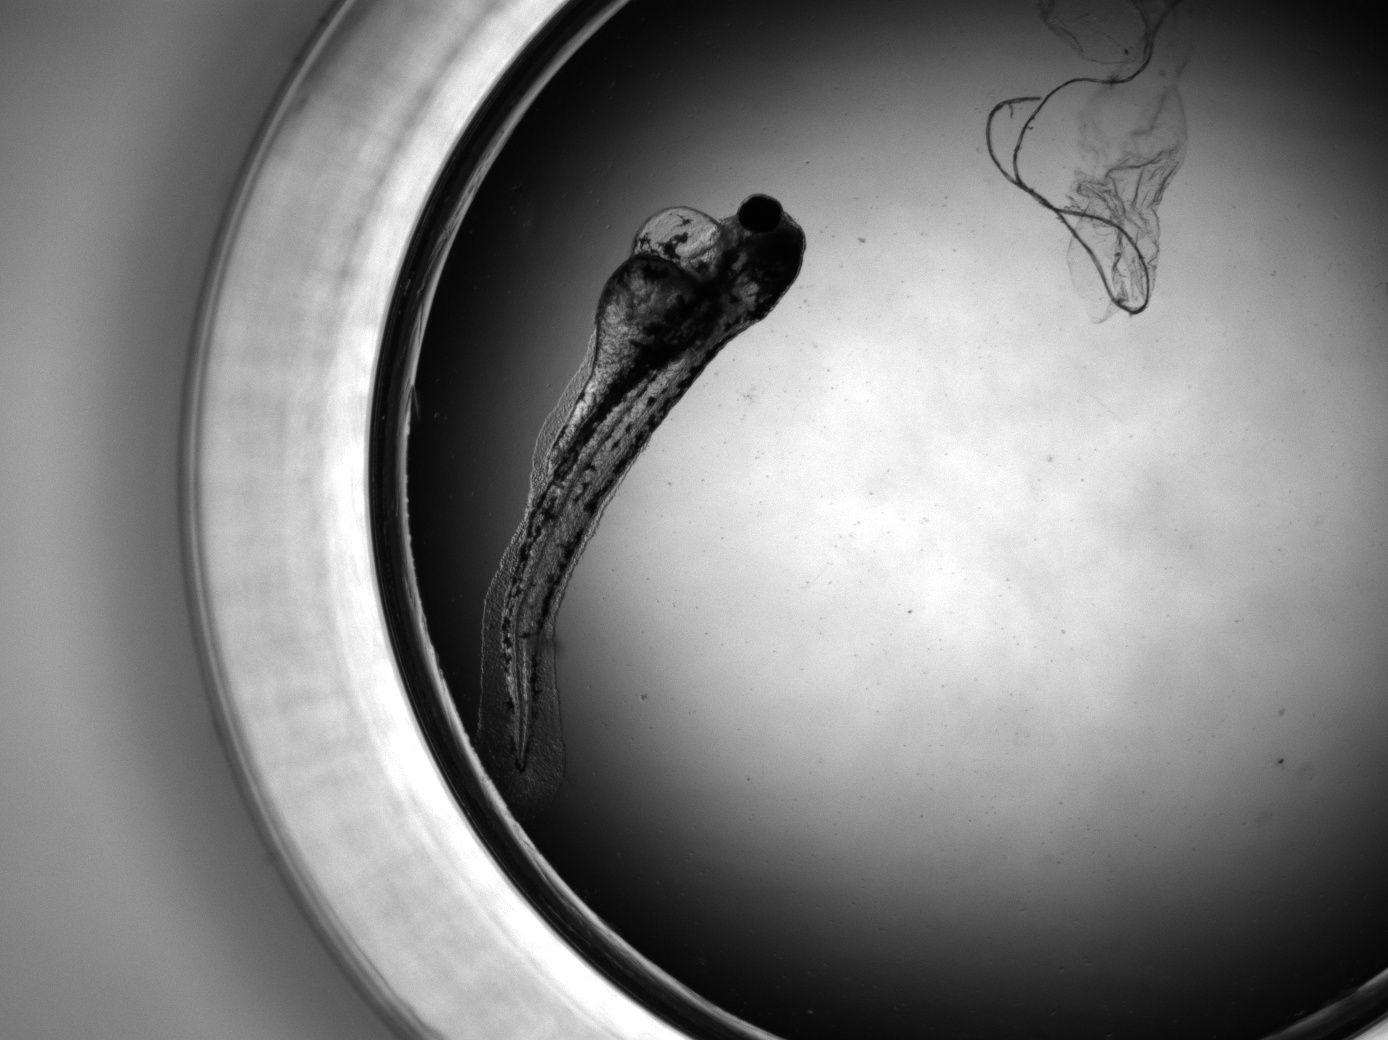debris: (982, 1, 1198, 323)
embryo: (500, 193, 806, 773)
eye: (737, 193, 783, 233)
yolksac: (547, 204, 729, 474)
